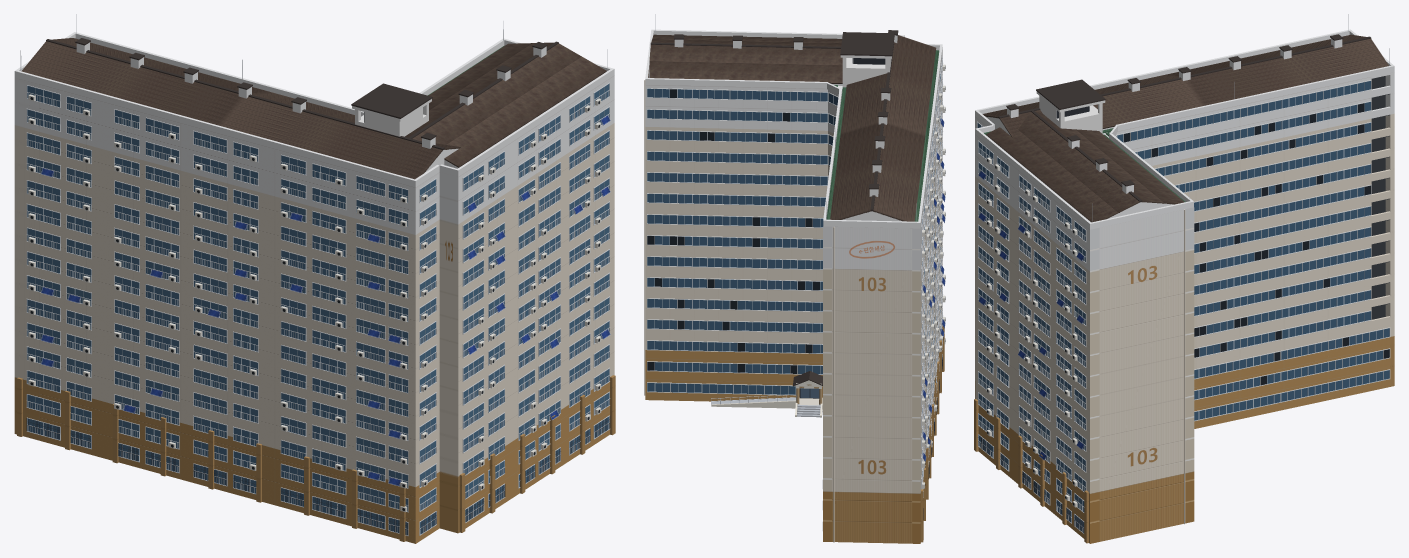
Rendered from place_행당대림103.glb.
3 renders of one model, left to right at view 1: azimuth 30°, elevation 25°; view 2: azimuth 150°, elevation 25°; view 3: azimuth 270°, elevation 25°, orthographic. The views are drawn at different scales.
Parts seen in each view (by area): view 1: Merged_Balcony_Glass, WingA_Main_MidCream, Pitched_Gable_Roofs_And_Penthouse, Merged_Balcony_SilverRails, Merged_Balcony_Frames, WingB_SouthStep_MidCream, WingA_Main_LowerOchre, WingA_Main_TopOffWhite, WingB_SouthStep_103_Wall, Merged_AC_Units, Building_Architecture, WingB_SouthStep_TopOffWhite (+7 smaller); view 2: EndWall_NNW_103, Pitched_Gable_Roofs_And_Penthouse, Merged_Corridor_Glass, WingB_Main_MidCream, Merged_Corridor_WhiteFrames, WingB_Main_LowerOchre, WingB_Main_TopOffWhite, Merged_Balcony_Frames, Merged_Balcony_SilverRails, Corner_Elevator_Penthouse, WingA_Main_MidCream, Corner_103_Gable_Entrance (+9 smaller); view 3: EndWall_ENE_103, Pitched_Gable_Roofs_And_Penthouse, Merged_Corridor_Glass, WingA_Main_MidCream, WingB_SouthStep_MidCream, Merged_Balcony_Glass, Merged_Corridor_WhiteFrames, Merged_Balcony_Frames, Merged_Balcony_SilverRails, WingA_Main_TopOffWhite, WingA_Main_LowerOchre, WingB_SouthStep_TopOffWhite (+12 smaller).
Part boxes in pixels (box(x1,y1,x2,y2)): Merged_Balcony_Glass: box(27, 84, 609, 535); WingA_Main_MidCream: box(39, 132, 439, 487); Pitched_Gable_Roofs_And_Penthouse: box(14, 14, 614, 187); Merged_Balcony_SilverRails: box(26, 89, 610, 535); Merged_Balcony_Frames: box(26, 82, 609, 535); WingB_SouthStep_MidCream: box(458, 123, 614, 476); WingA_Main_LowerOchre: box(39, 387, 439, 543); WingA_Main_TopOffWhite: box(39, 84, 439, 234); WingB_SouthStep_103_Wall: box(439, 172, 458, 533); Merged_AC_Units: box(28, 94, 601, 512); Building_Architecture: box(17, 375, 615, 541); WingB_SouthStep_TopOffWhite: box(458, 75, 614, 224); EndWall_NNW_103: box(823, 226, 920, 543); Pitched_Gable_Roofs_And_Penthouse: box(645, 14, 942, 228); Merged_Corridor_Glass: box(647, 88, 838, 394); WingB_Main_MidCream: box(645, 127, 827, 349); Merged_Corridor_WhiteFrames: box(647, 88, 838, 530); WingB_Main_LowerOchre: box(645, 350, 822, 401); WingB_Main_TopOffWhite: box(645, 85, 840, 130); Merged_Balcony_Frames: box(921, 56, 942, 489); Merged_Balcony_SilverRails: box(922, 63, 942, 497); Corner_Elevator_Penthouse: box(840, 32, 894, 87); WingA_Main_MidCream: box(922, 95, 942, 471); Corner_103_Gable_Entrance: box(711, 371, 822, 417); EndWall_ENE_103: box(1090, 207, 1194, 543); Pitched_Gable_Roofs_And_Penthouse: box(975, 14, 1394, 229); Merged_Corridor_Glass: box(1117, 81, 1389, 420); WingA_Main_MidCream: box(975, 118, 1371, 380); WingB_SouthStep_MidCream: box(975, 177, 1089, 493); Merged_Balcony_Glass: box(977, 123, 1085, 532); Merged_Corridor_WhiteFrames: box(1115, 80, 1390, 421); Merged_Balcony_Frames: box(977, 121, 1086, 531); Merged_Balcony_SilverRails: box(977, 128, 1085, 533); WingA_Main_TopOffWhite: box(975, 77, 1371, 165); WingA_Main_LowerOchre: box(975, 341, 1371, 428); WingB_SouthStep_TopOffWhite: box(975, 135, 1103, 270).
Bounding box in the file's own units: 56.82 × 47.51 × 51.9.
Materials: 33 (12 with a texture image).
